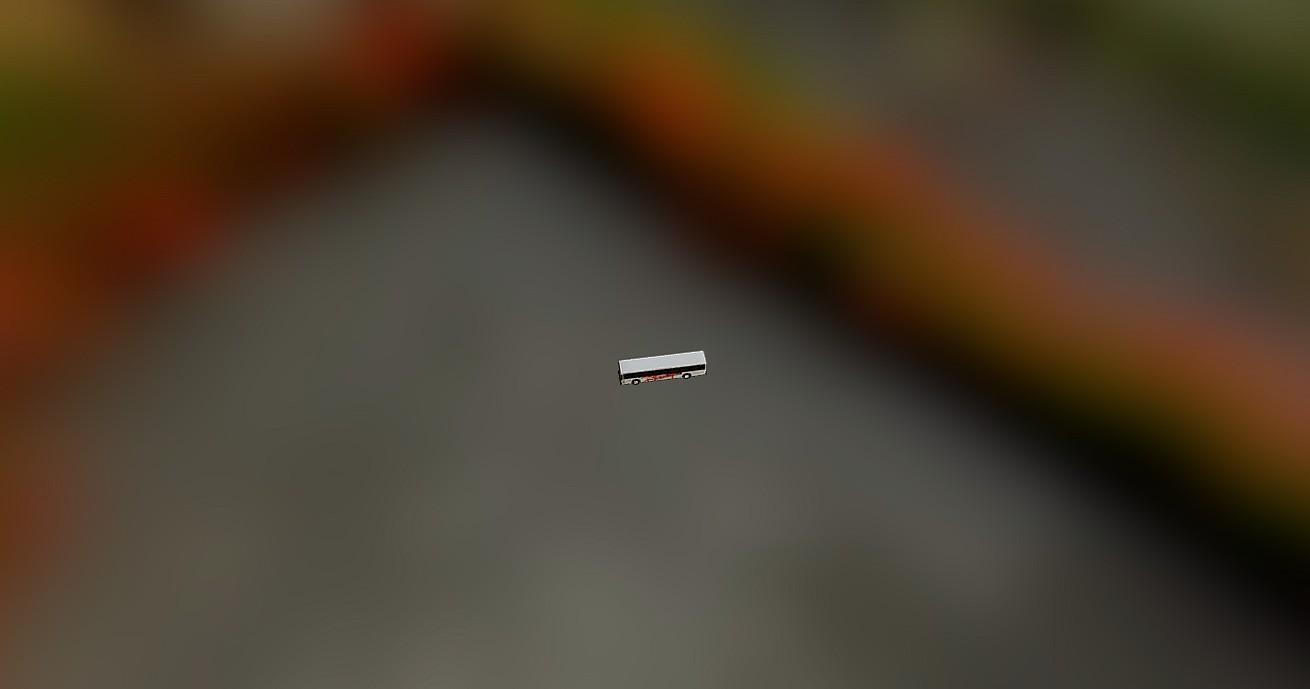Bus: (616, 348, 708, 387)
